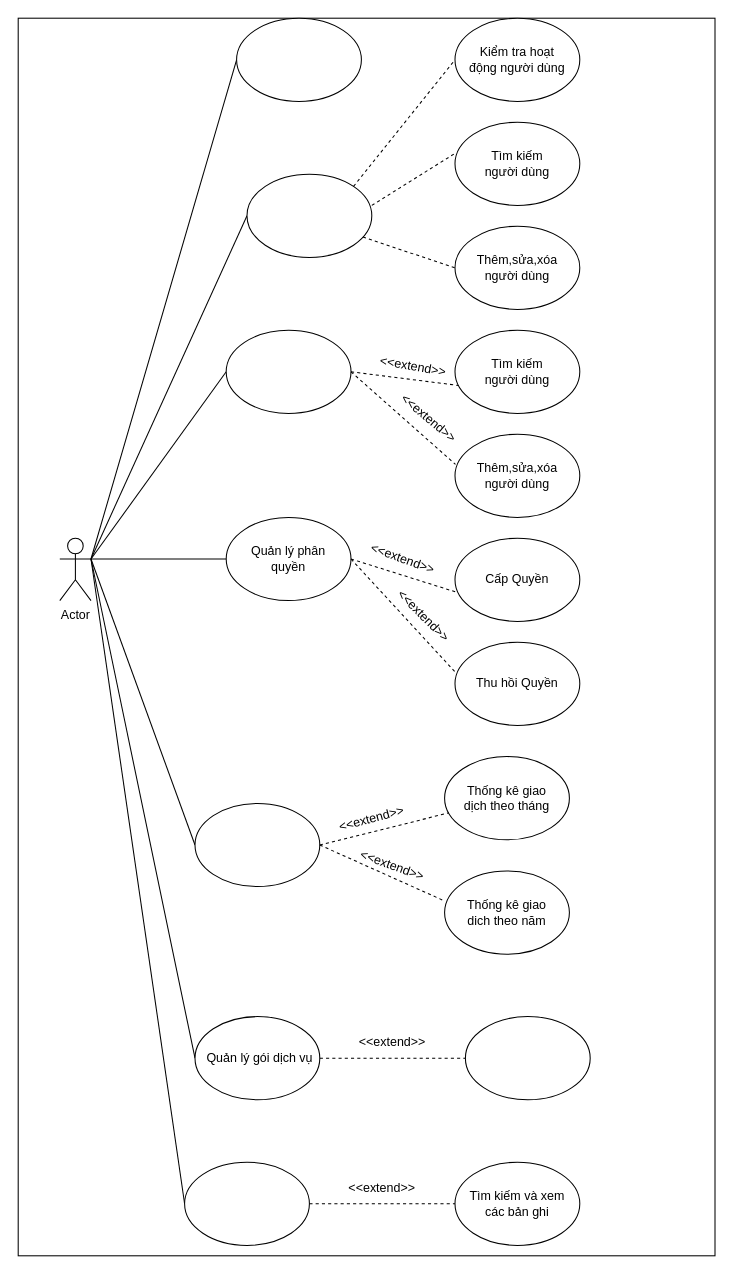
The diagram is 733 pixels wide and 1274 high, and some of its shapes have lost their labels. The box of each missing label's shape, as (x1, y1, x2, y2) in pixels:
Quản lý giao dịch: (225, 329, 351, 413)
Quản lý Người dùng: (246, 173, 372, 257)
Theo dõi log hệ thống: (184, 1161, 309, 1245)
Thêm, sửa, xóa gói dịch vụ: (464, 1016, 590, 1100)
Thống kê giao dịch: (194, 802, 320, 887)
Đăng Nhập: (236, 17, 361, 101)
